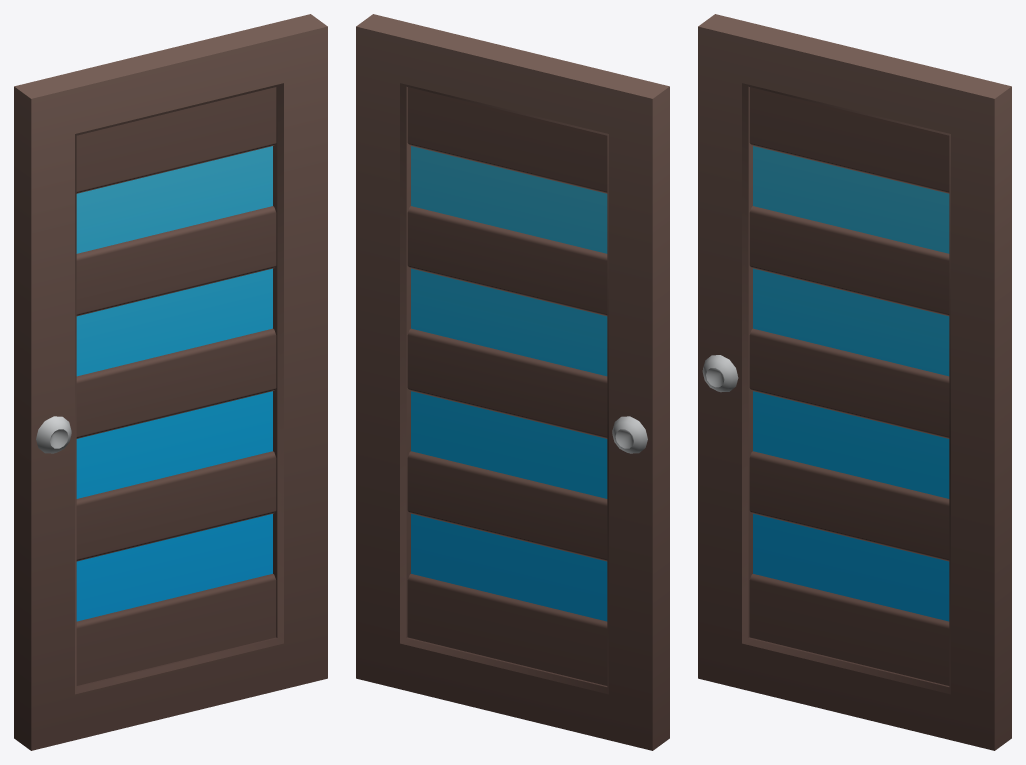
File: Door_Brown_08.glb
The picture shows the model from 3 angles, left to right: view 1: azimuth 30°, elevation 25°; view 2: azimuth 150°, elevation 25°; view 3: azimuth 330°, elevation 25°; orthographic projection.
Parts seen in each view (by area): view 1: Door_Brown_08; view 2: Door_Brown_08; view 3: Door_Brown_08.
Boxes of the visible parts, left/top/right/bottom form: Door_Brown_08: left=14, top=14, right=327, bottom=750; Door_Brown_08: left=356, top=14, right=669, bottom=750; Door_Brown_08: left=698, top=14, right=1011, bottom=750.
Bounding box in the file's own units: 1 × 2.1 × 0.1634.
Materials: 2 (2 with a texture image).
